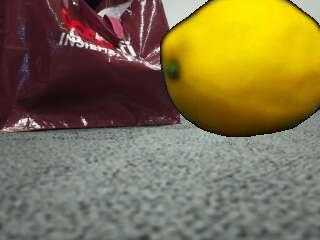lemon: (161, 1, 320, 136)
